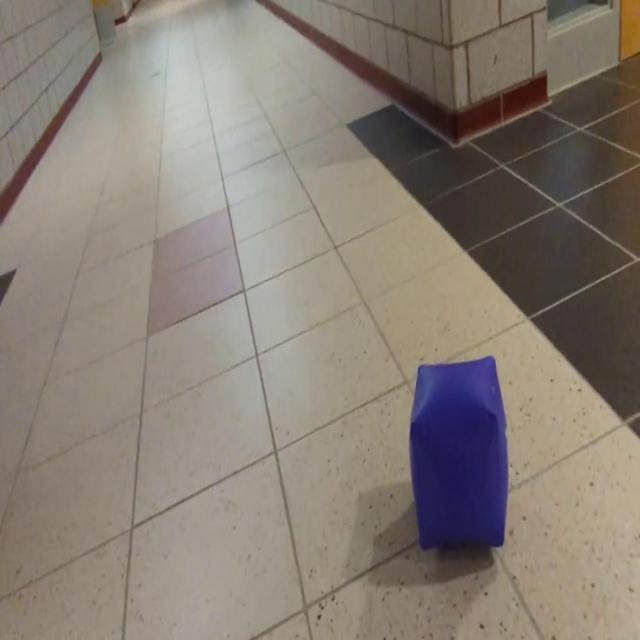frc_cube: (408, 353, 511, 551)
